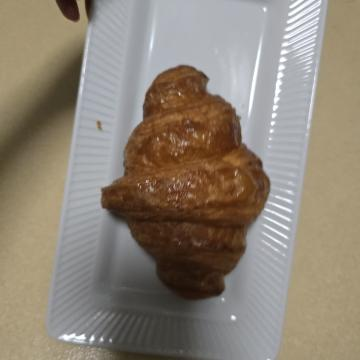croissant: (51, 84, 317, 273)
